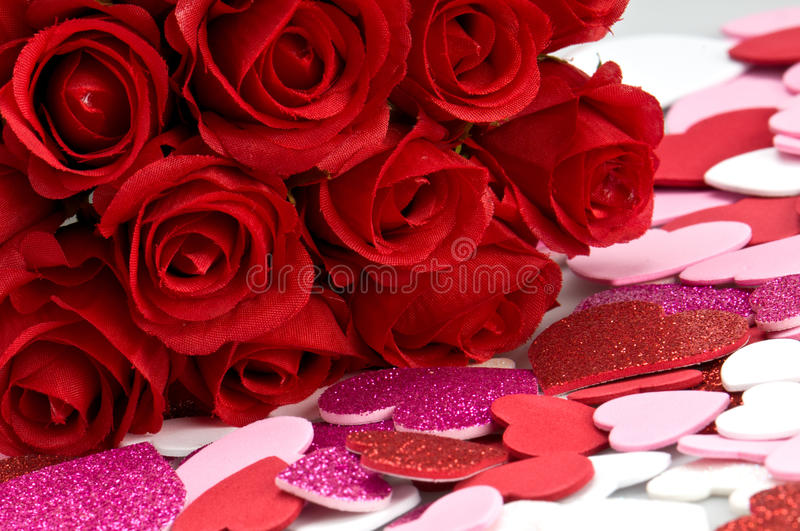RedRose: (178, 1, 382, 169), (127, 169, 302, 335), (385, 214, 552, 357), (528, 75, 656, 246), (343, 138, 501, 268), (24, 14, 164, 159), (395, 0, 560, 115), (33, 295, 129, 460), (230, 277, 356, 393)
